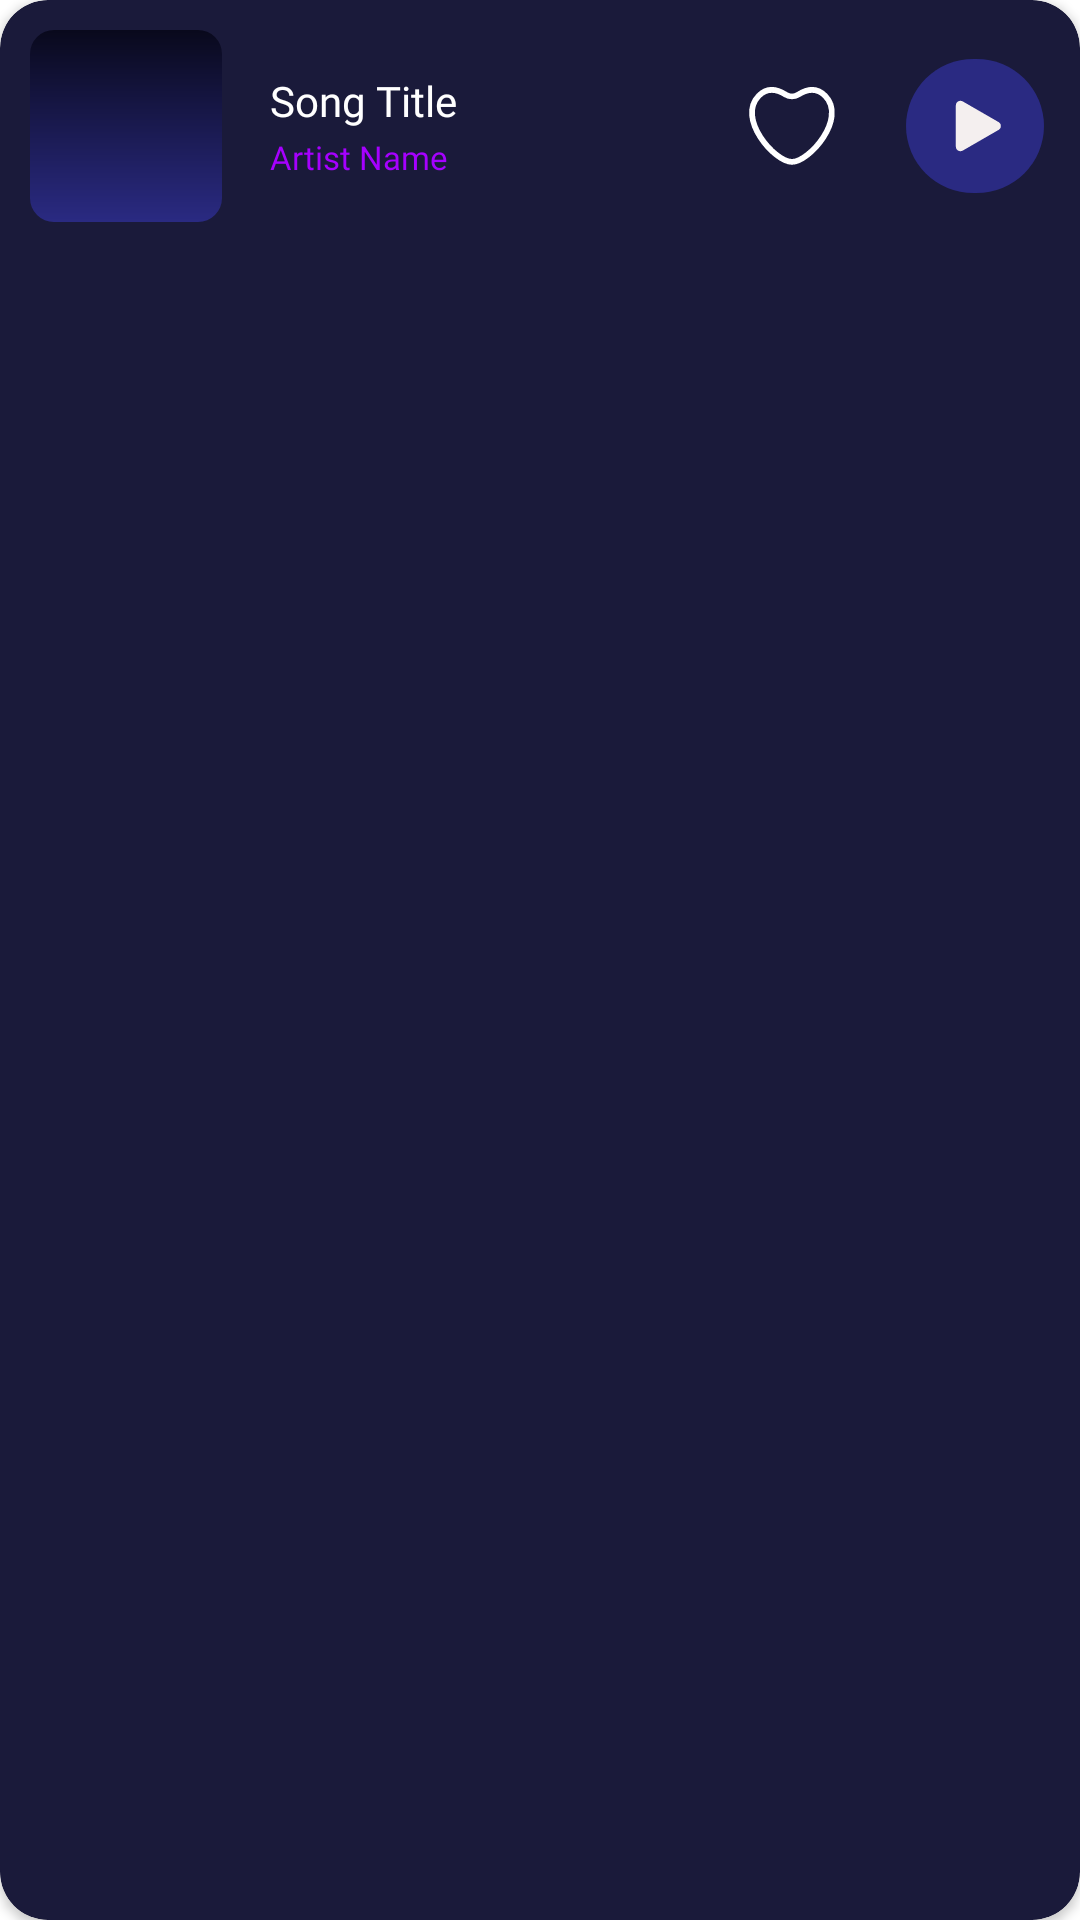

Icon click points for this 1080 × 1920 phone screenshot, format point (x, y):
liked: point (792, 126)
play: point (975, 126)
